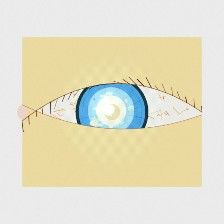corneal_ulcer: (87, 91, 136, 130)
